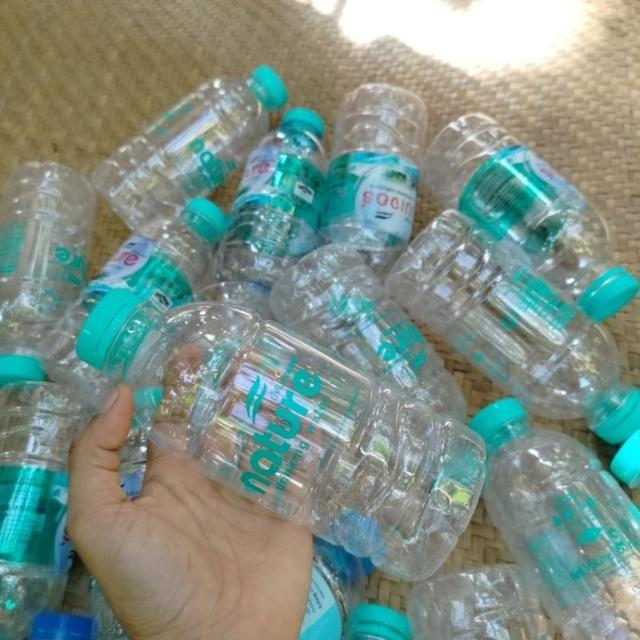PET Bottle: (68, 278, 500, 588), (412, 74, 640, 319), (391, 223, 640, 445), (462, 376, 640, 640), (280, 259, 506, 427), (95, 60, 287, 236), (0, 149, 98, 380), (0, 379, 82, 633), (228, 81, 322, 299), (320, 82, 414, 290)
